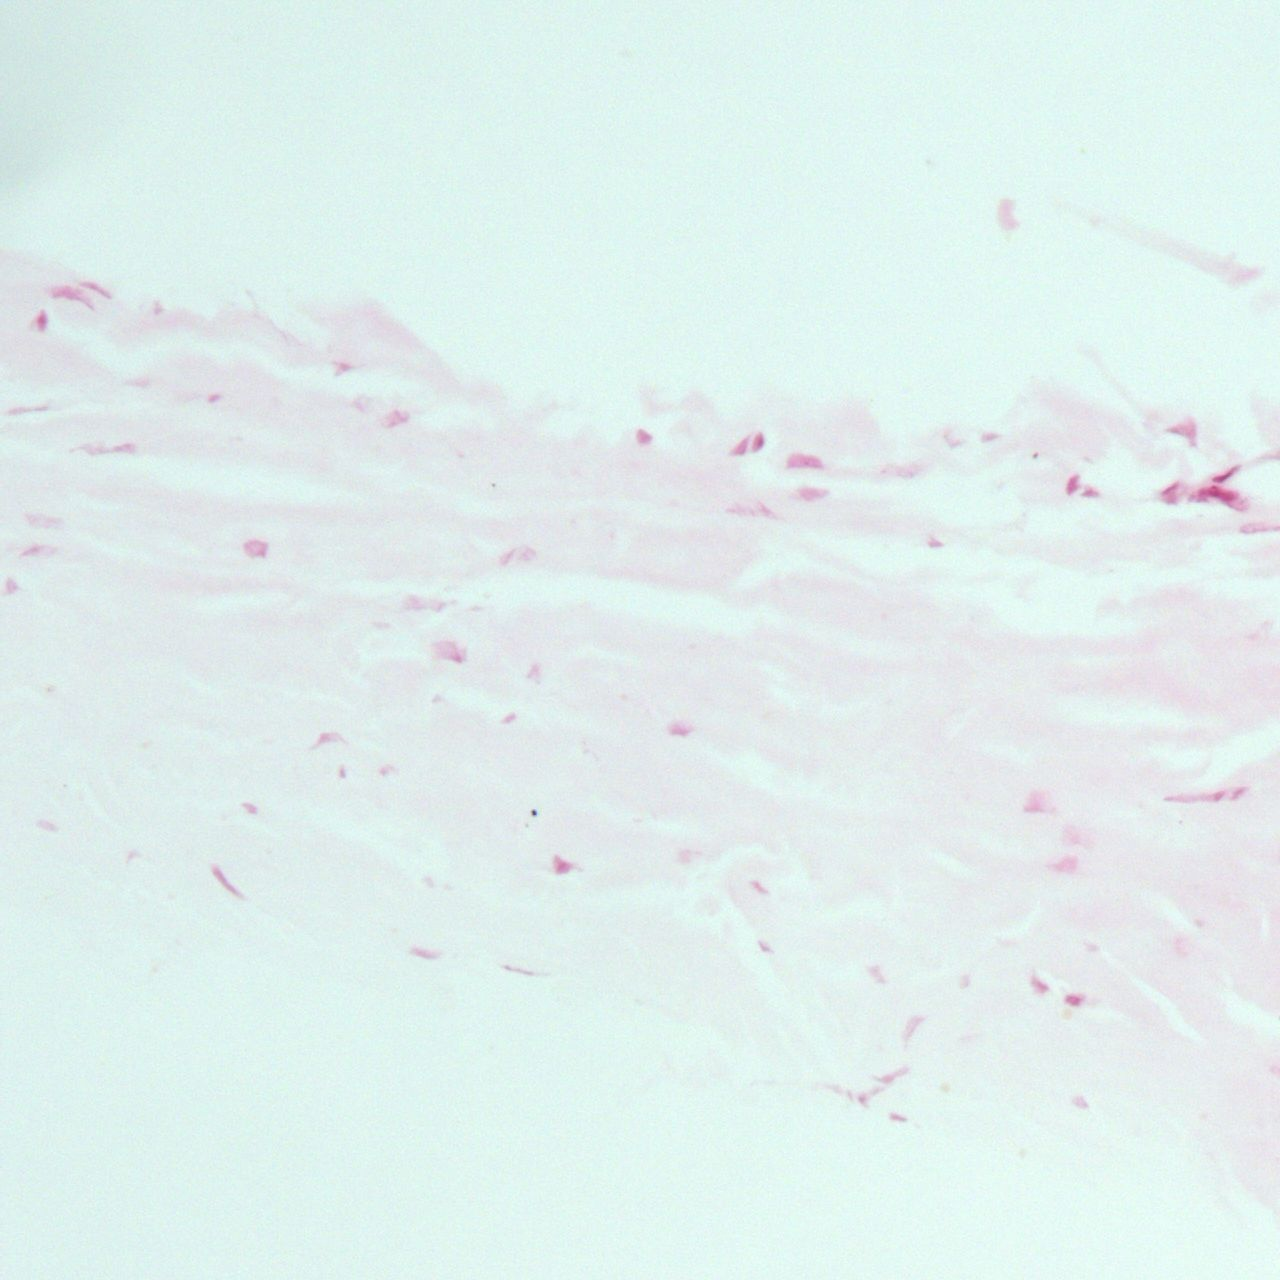dust: (529, 808, 538, 818), (1032, 450, 1037, 459), (491, 483, 497, 488)
nucleus-AC: (206, 862, 254, 908), (46, 279, 100, 315), (1191, 483, 1244, 508), (496, 961, 550, 981), (1208, 459, 1244, 488), (74, 275, 116, 298), (72, 442, 137, 456), (898, 1012, 925, 1044), (1165, 421, 1200, 445), (381, 403, 411, 430), (429, 642, 468, 661), (311, 726, 342, 748), (22, 513, 64, 530), (4, 402, 52, 416), (406, 595, 447, 612), (1061, 468, 1084, 496), (745, 874, 772, 898), (409, 942, 441, 962), (787, 452, 823, 469), (727, 433, 749, 457), (1157, 481, 1182, 503), (794, 485, 829, 501), (241, 538, 270, 557), (496, 708, 519, 728), (552, 853, 574, 873), (666, 723, 694, 738), (750, 429, 765, 456), (1028, 978, 1048, 998), (867, 964, 885, 986), (1053, 856, 1075, 873), (18, 544, 50, 556), (1228, 783, 1248, 801), (32, 309, 47, 332), (4, 576, 21, 594), (1164, 792, 1193, 803), (634, 428, 652, 445), (498, 547, 515, 566), (38, 818, 57, 833), (376, 763, 394, 779), (757, 503, 774, 520), (1023, 801, 1046, 813), (526, 663, 540, 683), (1068, 1094, 1088, 1108), (123, 376, 149, 387), (878, 1073, 898, 1085), (978, 429, 998, 442), (332, 363, 352, 375), (1080, 485, 1099, 497), (1065, 830, 1081, 845), (894, 1065, 911, 1080), (520, 545, 535, 560), (241, 803, 261, 813), (123, 850, 139, 862), (925, 536, 942, 546), (1065, 994, 1081, 1006), (1210, 790, 1224, 802), (206, 393, 220, 404), (336, 763, 345, 781), (888, 1114, 905, 1122), (858, 1095, 869, 1107), (960, 975, 969, 987), (847, 1090, 853, 1103)
